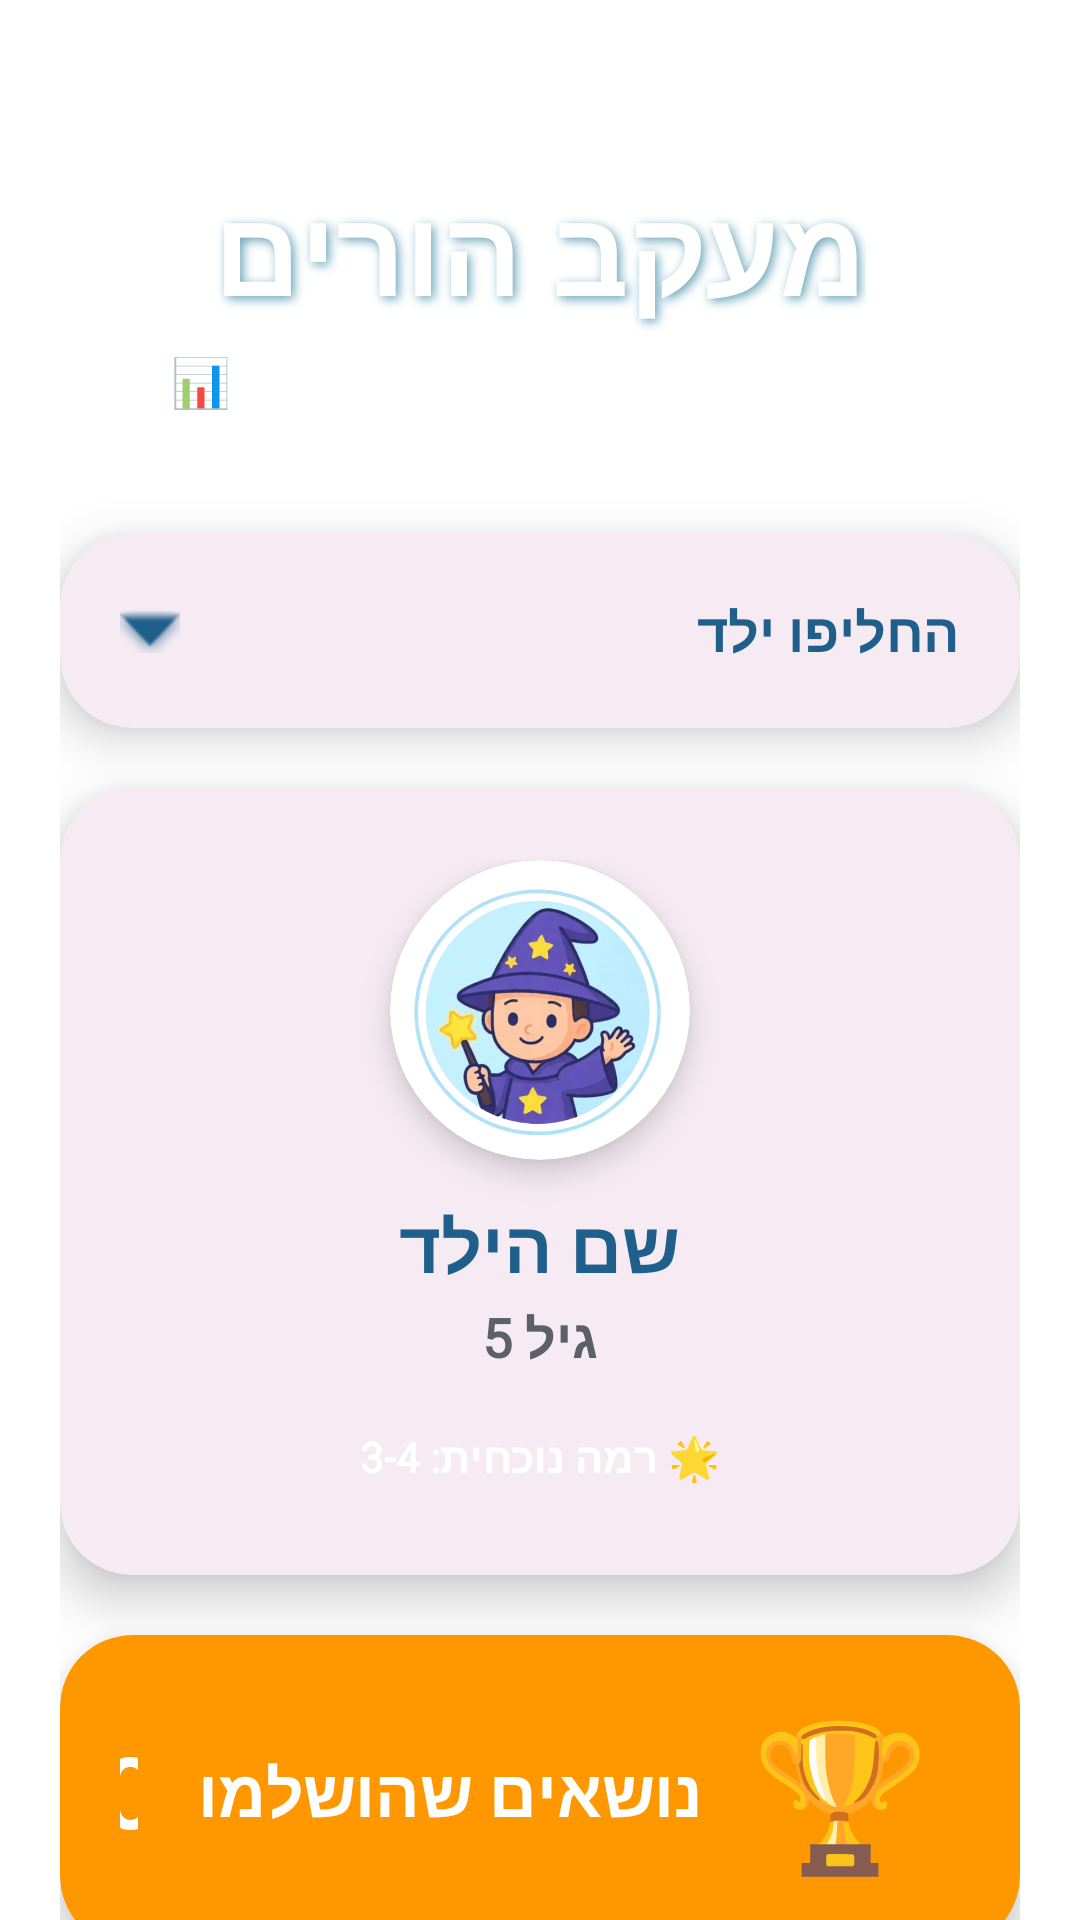

Icon bounding boxes for this 1080px x 1920px phone screenshot, format [x1, y1, x2, y2]:
פתח: [120, 611, 180, 651]
